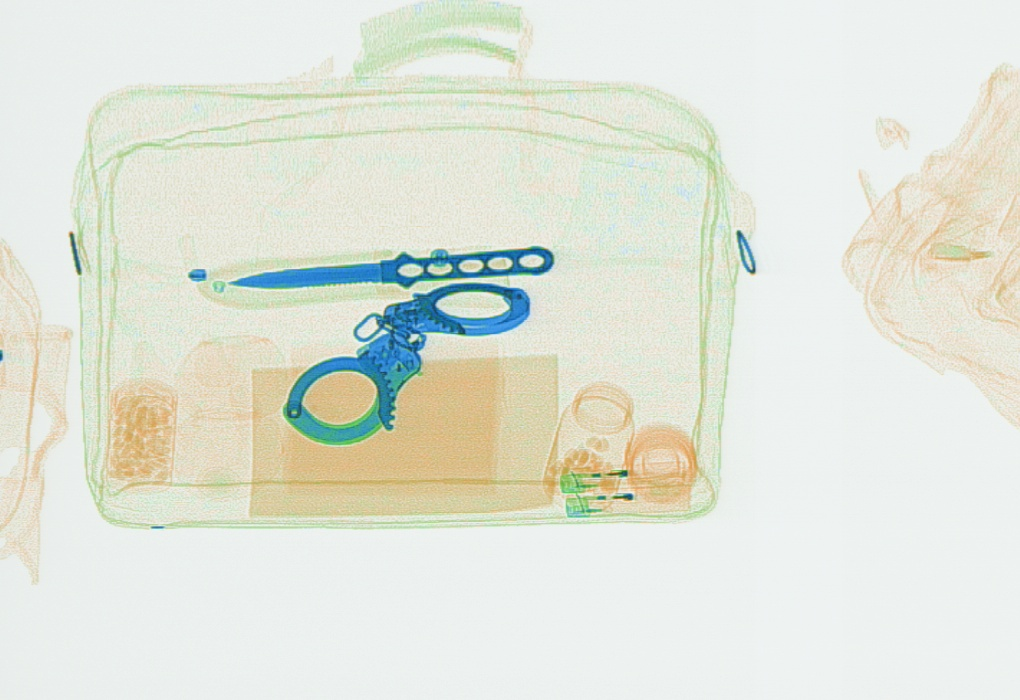handcuffs: (278, 279, 533, 447)
knife: (225, 241, 553, 291)
lighter: (557, 460, 704, 493), (565, 489, 692, 516)
